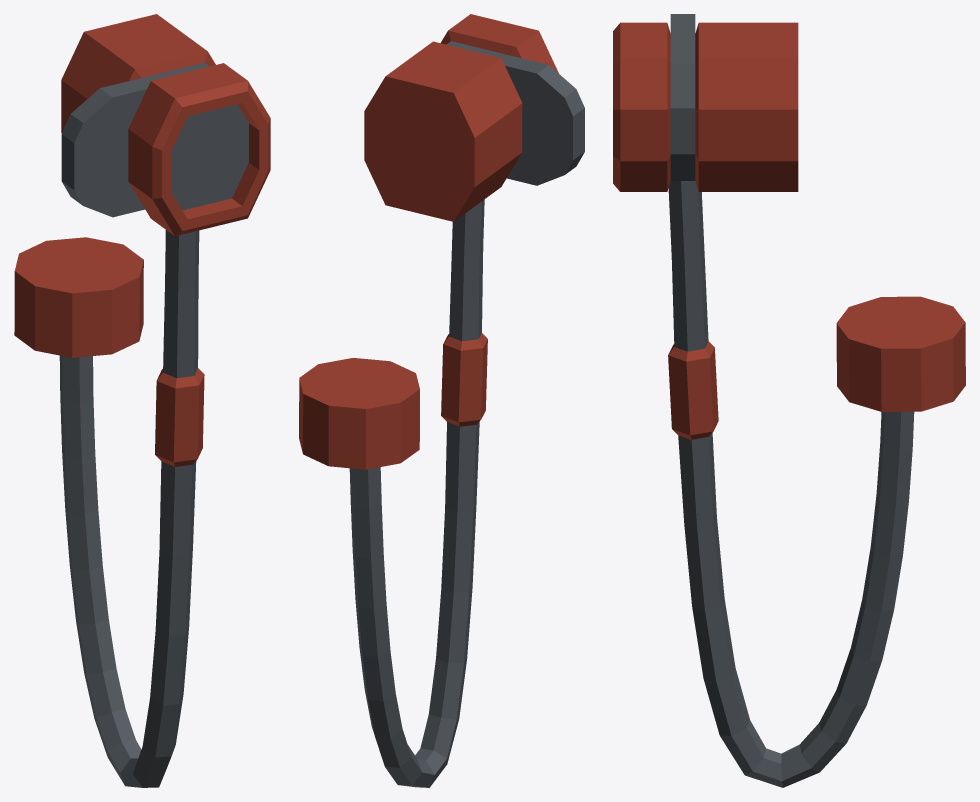
The model's file is Dropship_02_Cable_Red.fbx.
The picture shows the model from 3 angles, left to right: view 1: azimuth 30°, elevation 25°; view 2: azimuth 150°, elevation 25°; view 3: azimuth 270°, elevation 25°; orthographic projection. The views are drawn at different scales.
Visible parts, largest first — view 1: Dropship_02_Cable_Red; view 2: Dropship_02_Cable_Red; view 3: Dropship_02_Cable_Red.
Boxes of the visible parts, x1,y1,x2,y2 form: Dropship_02_Cable_Red: (14,14,270,787); Dropship_02_Cable_Red: (299,14,584,787); Dropship_02_Cable_Red: (613,14,965,787).
Size of the model in its own units: 103 by 422 by 182.
Materials: 1 (1 with a texture image).
